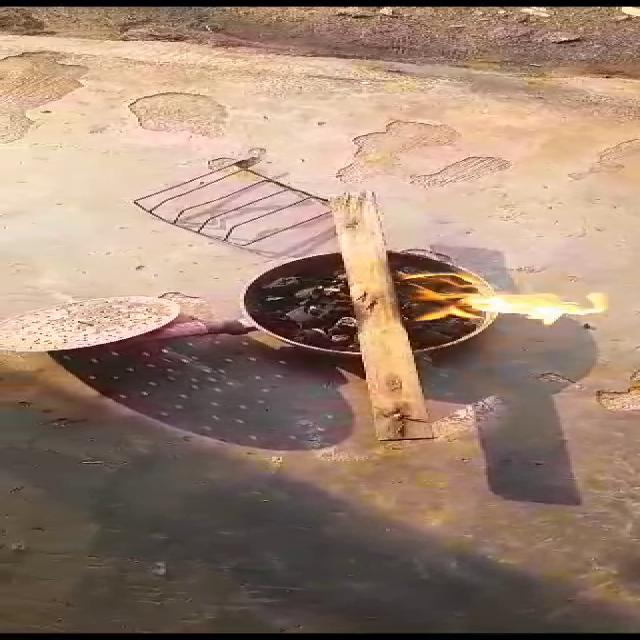Fire: (384, 266, 621, 341)
